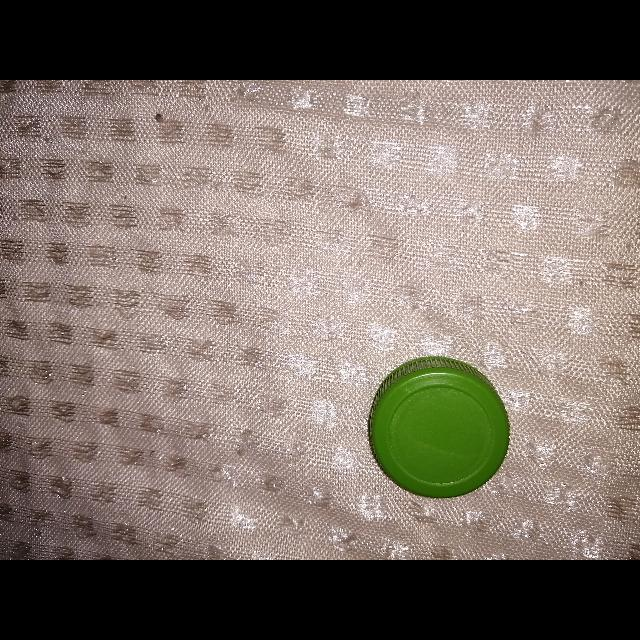plastic_bottle_cap: (368, 356, 512, 498)
